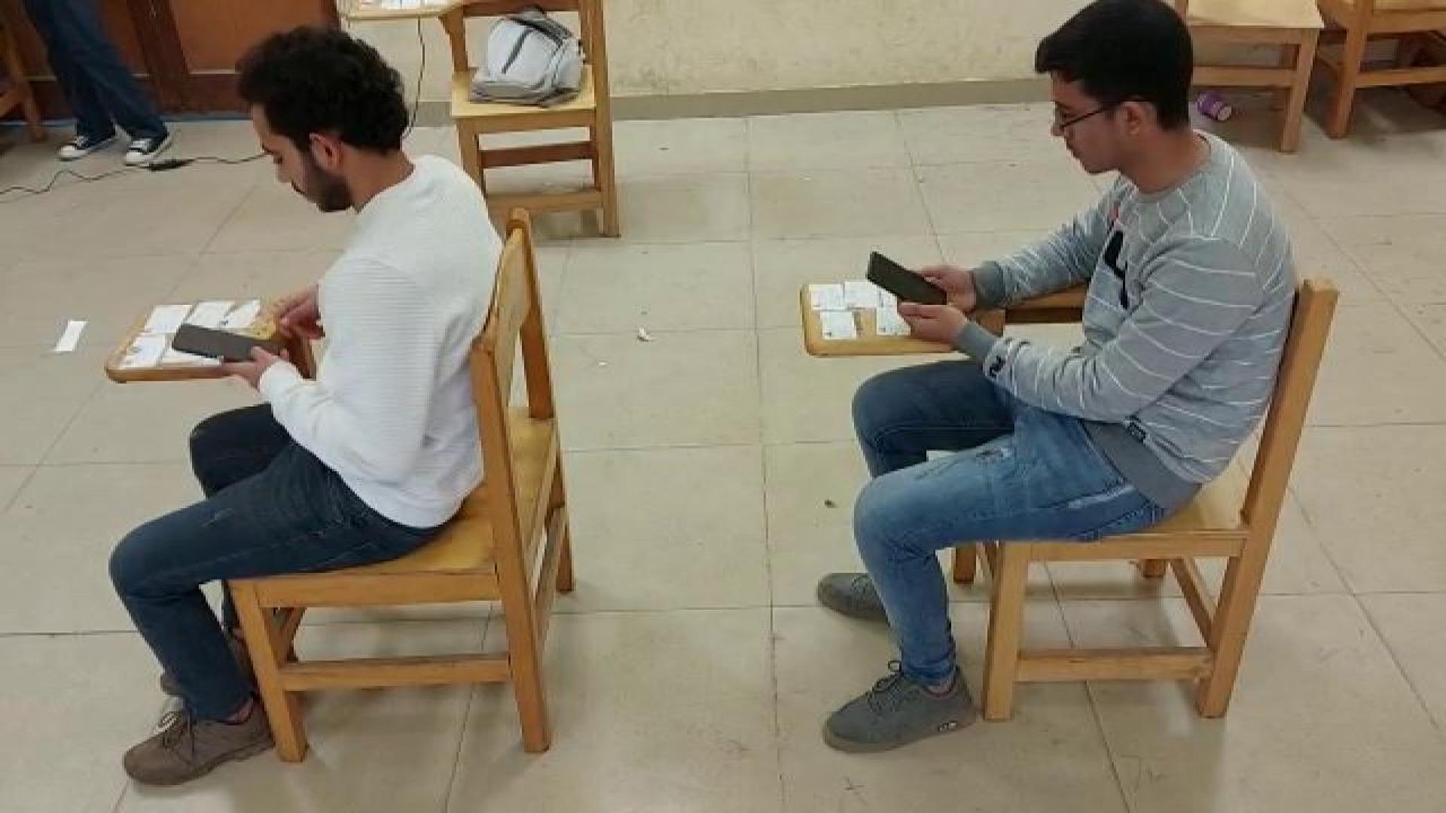phone: (865, 247, 951, 312), (167, 319, 280, 367)
